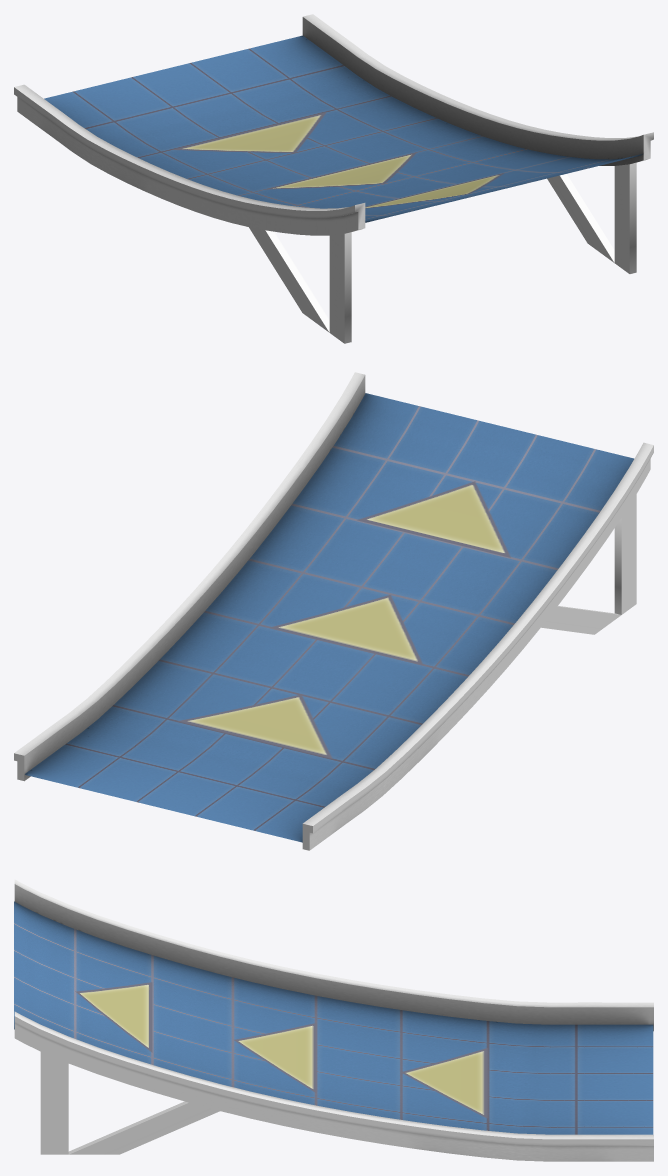
The model's file is jumpdai_x66per.fbx.
3 views of the same model, one above another, from view 1: azimuth 30°, elevation 25°; view 2: azimuth 150°, elevation 25°; view 3: azimuth 270°, elevation 25° (orthographic). The views are drawn at different scales.
Parts seen in each view (by area): view 1: jump_x66per; view 2: jump_x66per; view 3: jump_x66per.
Boxes of the visible parts, x1,y1,x2,y2 form: jump_x66per: (14,14,653,343); jump_x66per: (14,372,653,850); jump_x66per: (14,879,653,1161).
Size of the model in its own units: 860 by 432 by 1700.
